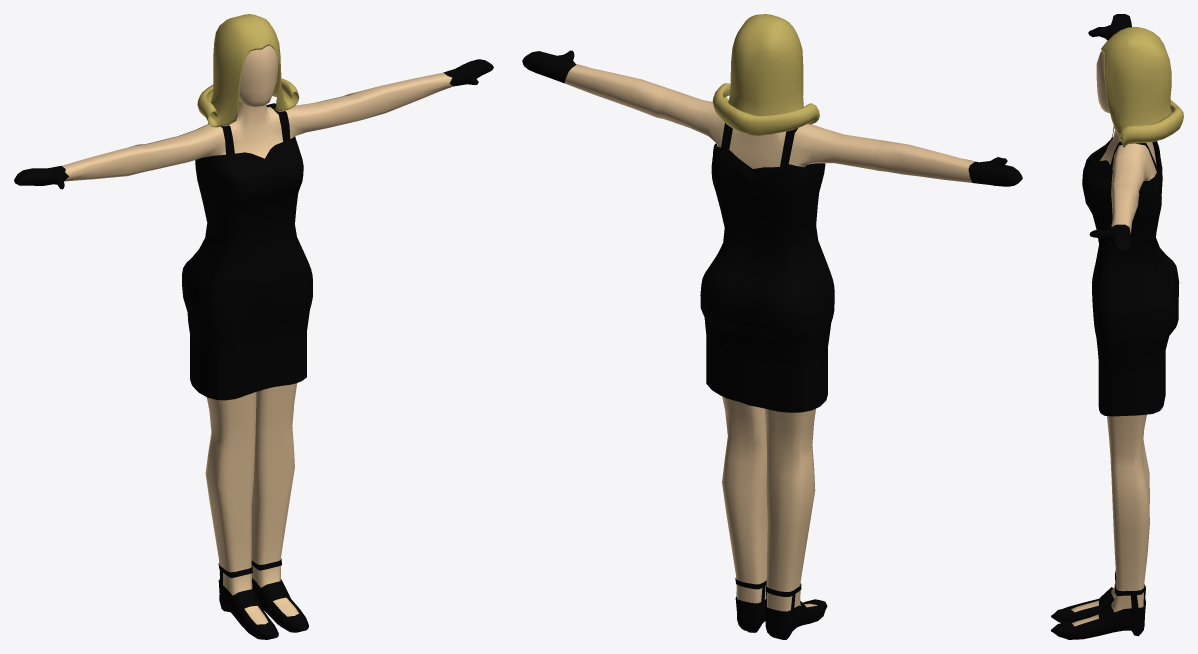
File: MistressNoRigTpose.fbx
The picture shows the model from 3 angles, left to right: view 1: azimuth 30°, elevation 25°; view 2: azimuth 150°, elevation 25°; view 3: azimuth 270°, elevation 25°; orthographic projection. The views are drawn at different scales.
Visible parts, largest first — view 1: body, Dress, Hair, Shoes; view 2: body, Dress, Hair, Shoes; view 3: Dress, body, Hair, Shoes.
Boxes of the visible parts, box(x1,y1,x2,y2) form: body: box(14, 45, 493, 624); Dress: box(182, 103, 312, 400); Hair: box(197, 14, 299, 127); Shoes: box(218, 558, 308, 639); body: box(522, 50, 1022, 611); Dress: box(700, 123, 834, 412); Hair: box(712, 14, 819, 135); Shoes: box(735, 578, 827, 639); Dress: box(1082, 126, 1179, 416); body: box(1071, 14, 1156, 626); Hair: box(1101, 27, 1183, 147); Shoes: box(1051, 571, 1145, 639).
Bounding box in the file's own units: 142 × 169 × 33.91.
